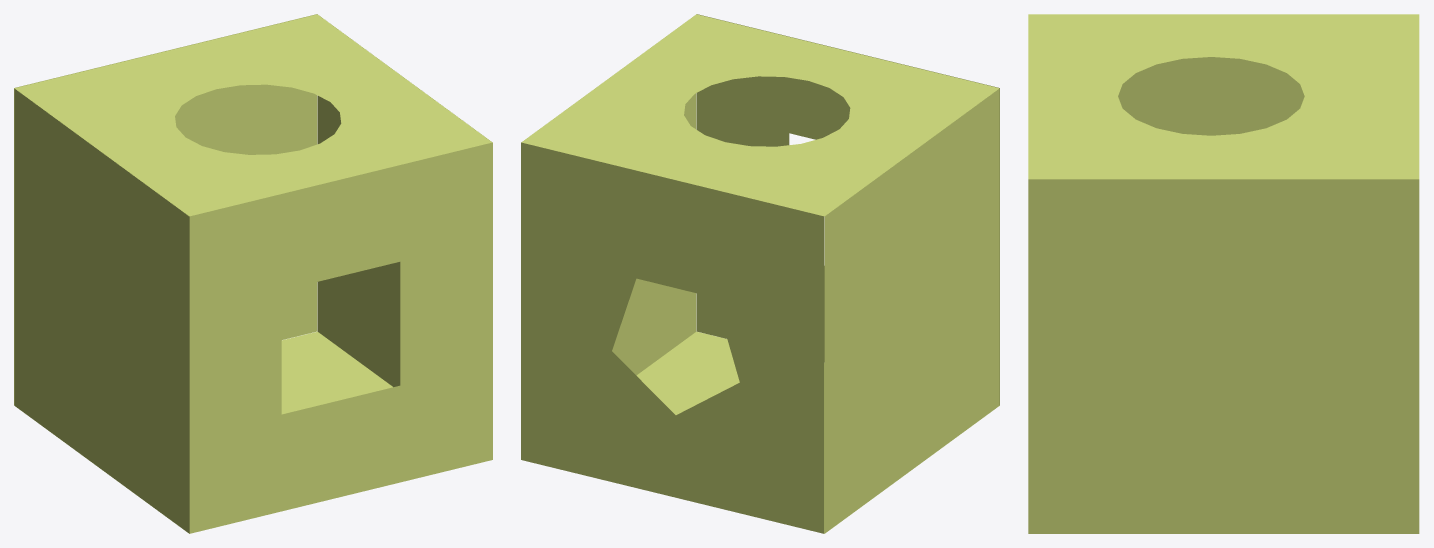
Rendered from cubo-formas.fbx.
The picture shows the model from 3 angles, left to right: view 1: azimuth 30°, elevation 25°; view 2: azimuth 150°, elevation 25°; view 3: azimuth 270°, elevation 25°; orthographic projection. The views are drawn at different scales.
Visible parts, largest first — view 1: pPlane11; view 2: pPlane11; view 3: pPlane11.
Boxes of the visible parts, <box> form: pPlane11: <box>14,14,492,533</box>; pPlane11: <box>521,14,999,533</box>; pPlane11: <box>1028,14,1419,533</box>.
Size of the model in its own units: 1 by 1 by 1.
